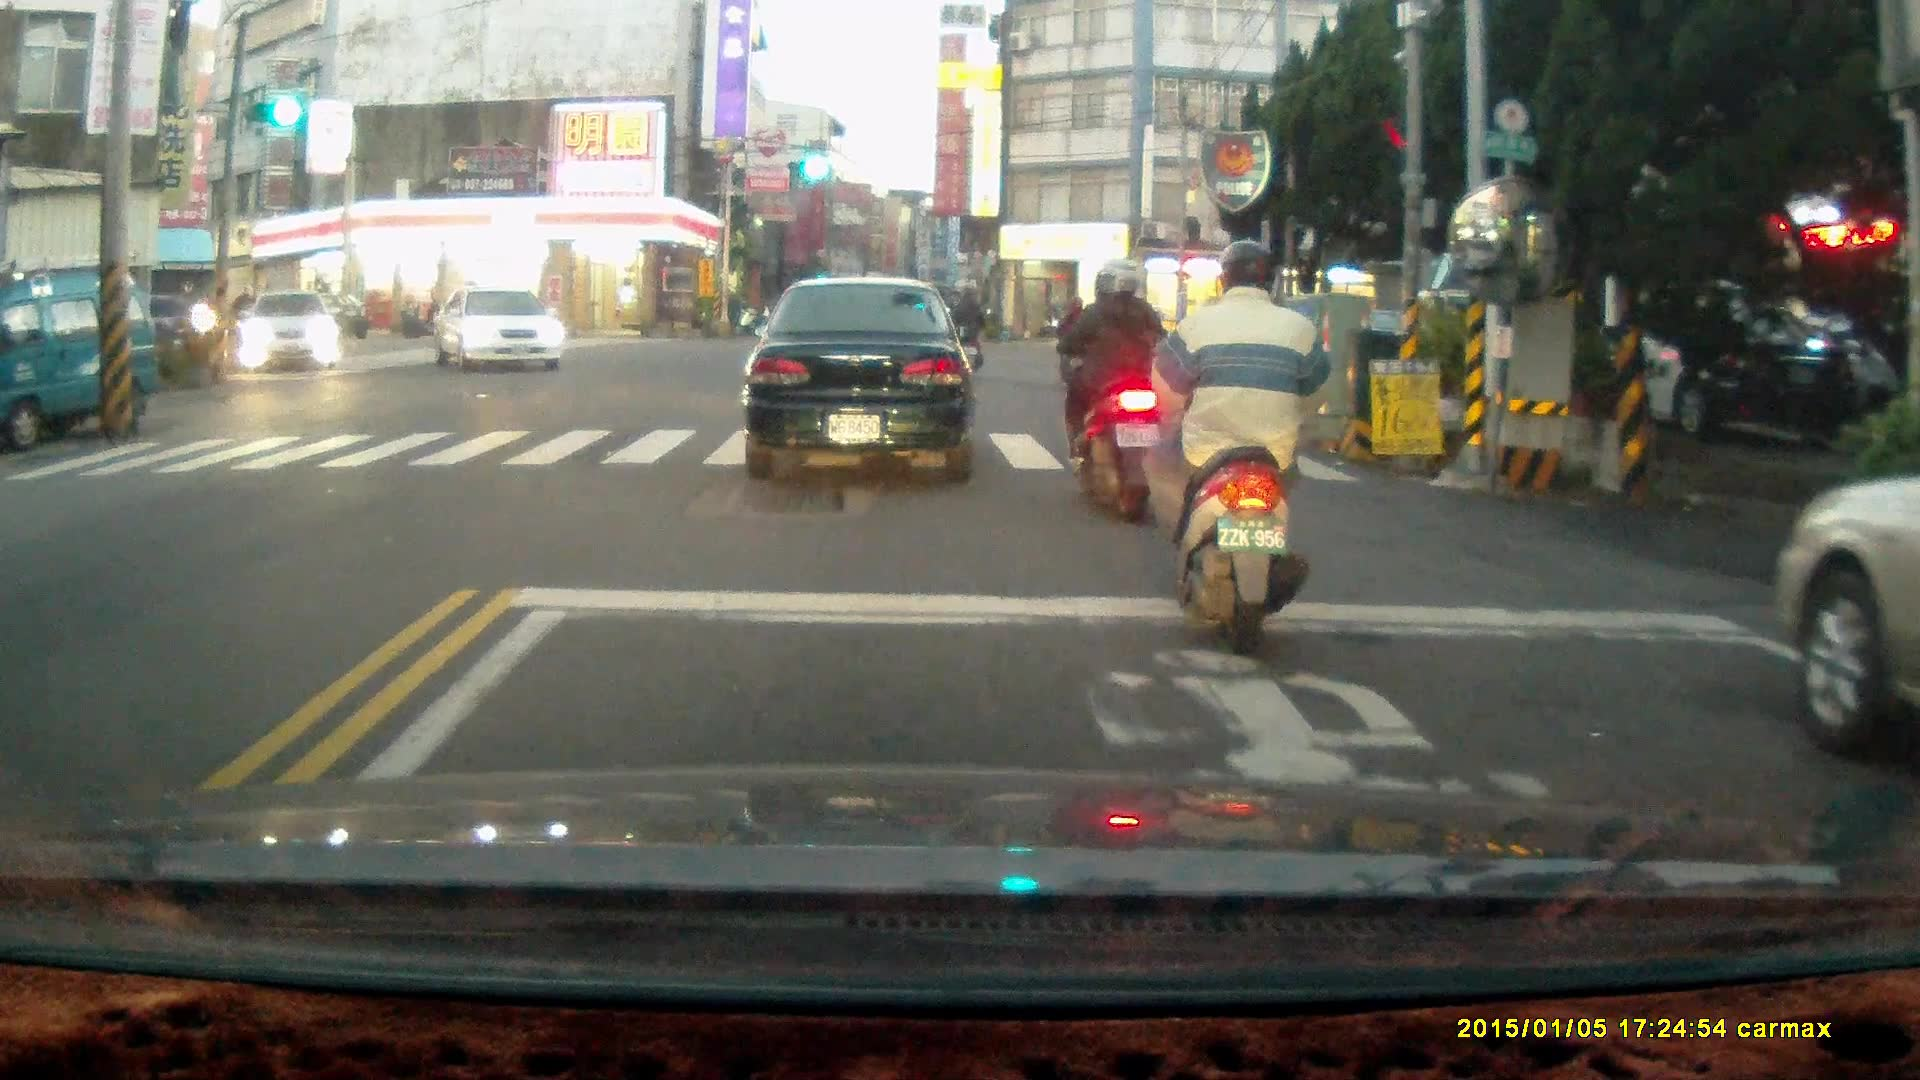rider: (1141, 234, 1337, 643), (1040, 255, 1176, 523), (942, 287, 991, 379)
vehicle: (1544, 276, 1861, 432), (742, 276, 976, 481), (1768, 473, 1920, 762), (1, 267, 164, 456), (433, 289, 567, 374), (236, 292, 345, 376)
